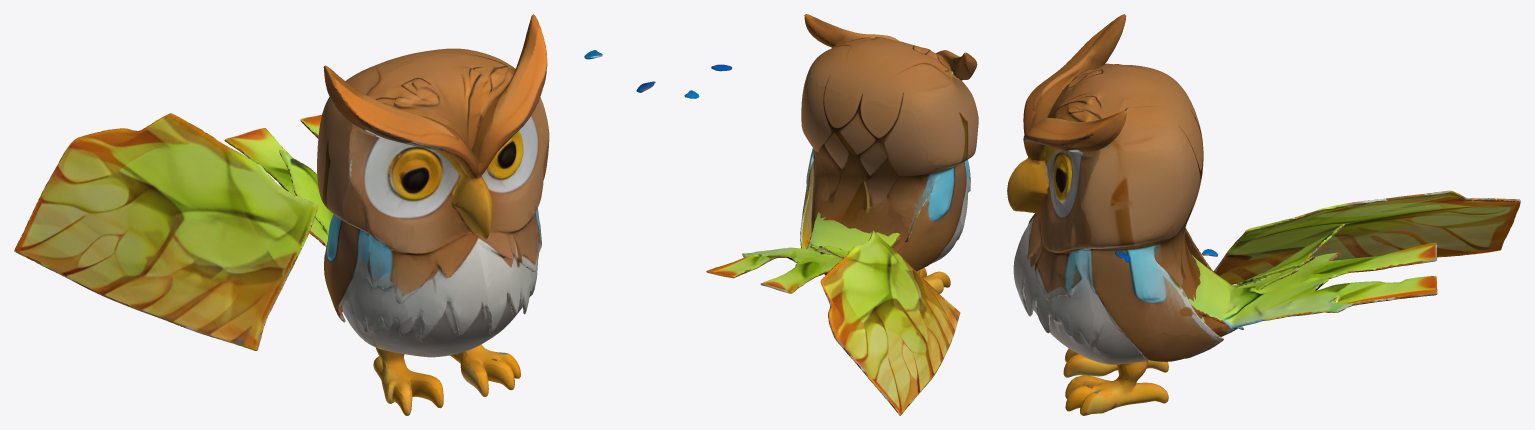
The model's file is owl_discovery.glb.
3 renders of one model, left to right at view 1: azimuth 30°, elevation 25°; view 2: azimuth 150°, elevation 25°; view 3: azimuth 270°, elevation 25°, orthographic. The views are drawn at different scales.
Visible parts, largest first — view 1: companions-owl-owl_discovery_textured; view 2: companions-owl-owl_discovery_textured; view 3: companions-owl-owl_discovery_textured.
Part boxes in pixels (<box>): companions-owl-owl_discovery_textured: <box>14,14,655,415</box>; companions-owl-owl_discovery_textured: <box>684,14,978,415</box>; companions-owl-owl_discovery_textured: <box>1007,14,1520,415</box>.
Size of the model in its own units: 1.89 by 1.39 by 1.99.
1 material, 1 textured.
